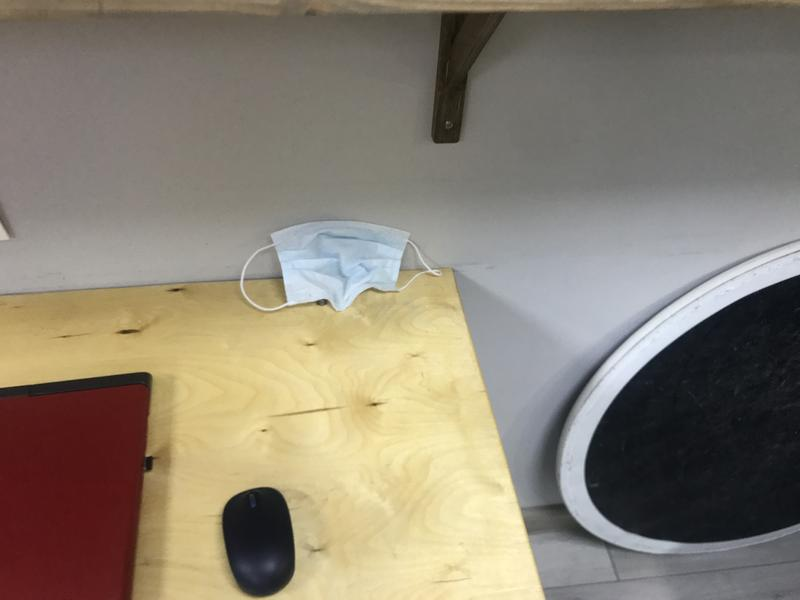medical_mask: (240, 219, 441, 311)
